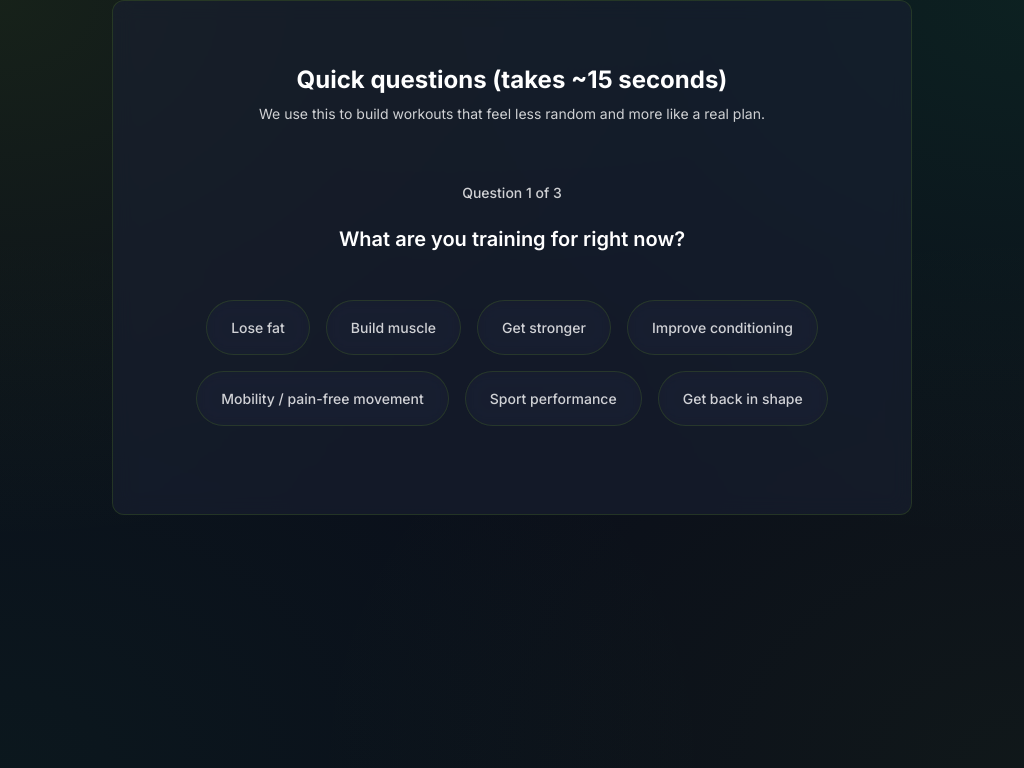
Test: MicroInterview › should advance to next question when option is selected
Step 1. Click the button "Build muscle" → coordinates (393, 327), box [326, 300, 461, 355]
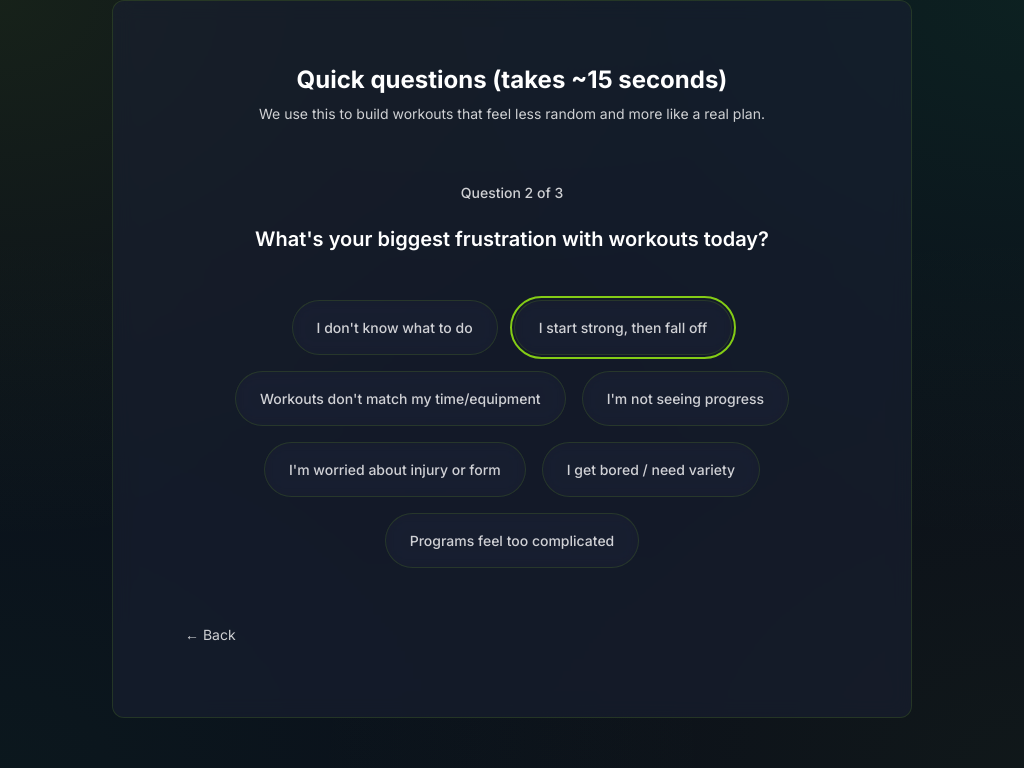
Expected: the text "Question 2 of 3" is shown, [461, 184, 563, 201]
Expected: the heading "What's your biggest frustration with workouts today?" is shown, [255, 227, 769, 251]
